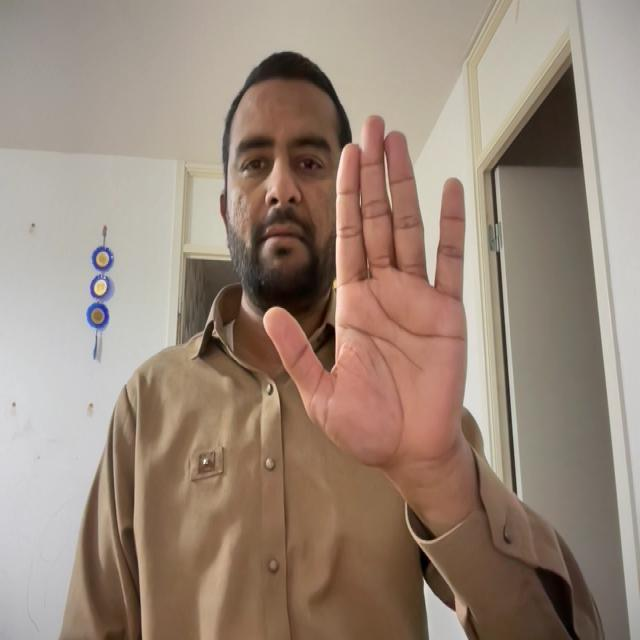Hello: (261, 98, 500, 506)
